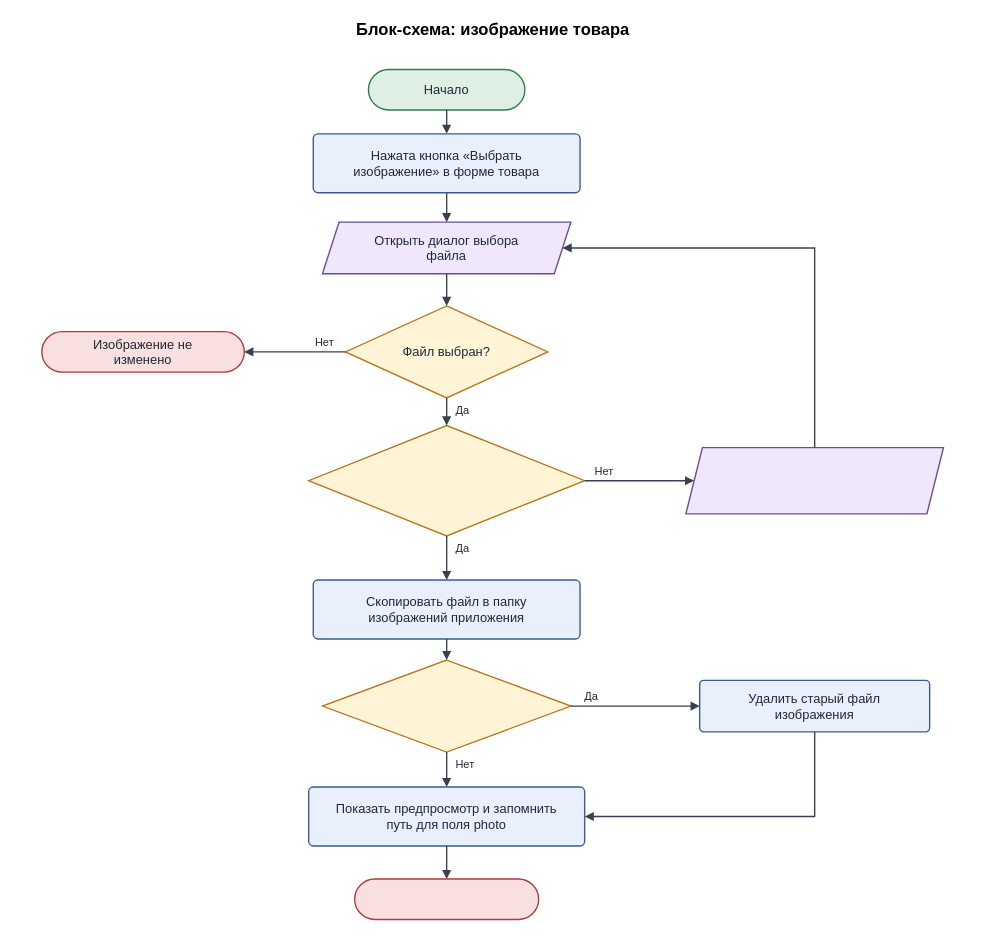
Some shapes in this 984 by 936 pixel diagram are drawn without their labels. The centre of each missing label's shape, as x and y in pixels:
"Изображение выбрано" belongs at (x=446, y=899).
"Сообщение об ошибке: неверный формат или размер (см. 12)" belongs at (x=814, y=480).
"У товара уже есть изображение?" belongs at (x=446, y=705).
"Формат PNG/JPG и размер до 300×200 px?" belongs at (x=446, y=480).
